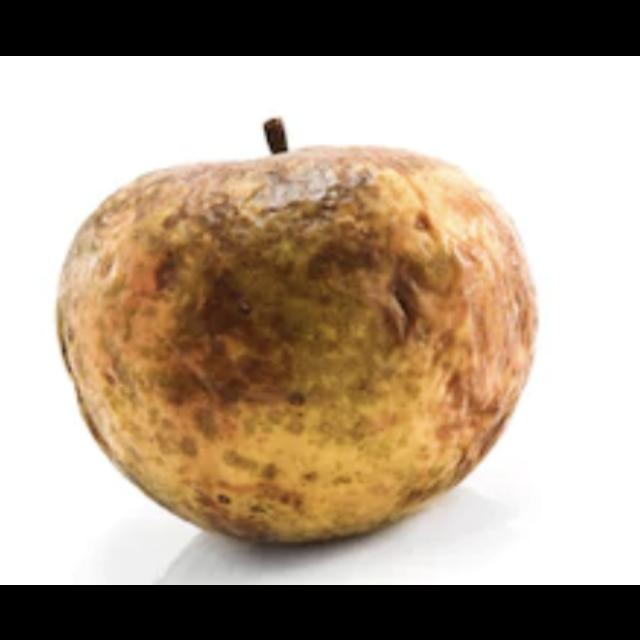Apel Tidak Segar: (50, 136, 542, 554)
